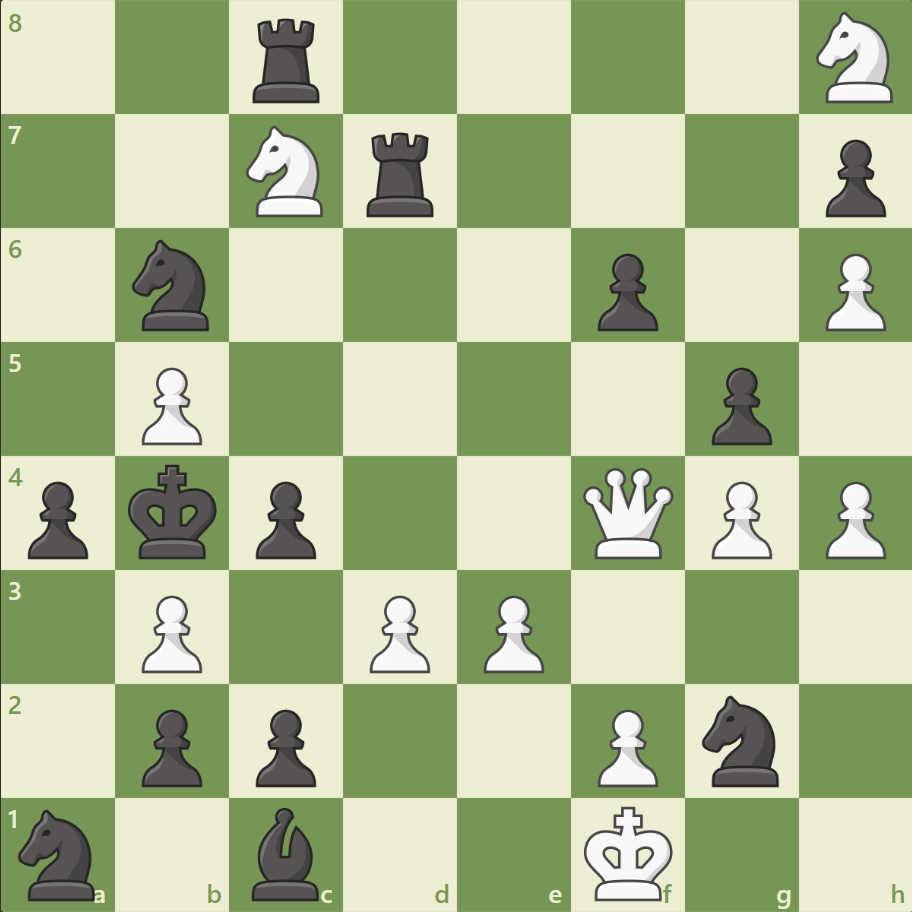K: (579, 798, 679, 906)
N: (806, 7, 903, 110), (238, 121, 335, 223)
P: (133, 359, 208, 450), (701, 473, 776, 564), (133, 586, 208, 677), (474, 586, 549, 677), (815, 246, 889, 337), (815, 473, 889, 564), (361, 586, 435, 677), (588, 700, 662, 791)
Q: (578, 463, 677, 562)
b: (244, 801, 328, 904)
k: (124, 458, 224, 566)
n: (124, 234, 222, 337), (692, 688, 789, 791), (11, 802, 108, 904)
p: (701, 359, 776, 450), (20, 473, 95, 564), (247, 473, 322, 564), (133, 700, 208, 791), (247, 700, 322, 791), (815, 132, 889, 223), (588, 246, 662, 337)
r: (246, 12, 329, 109), (360, 125, 442, 222)
